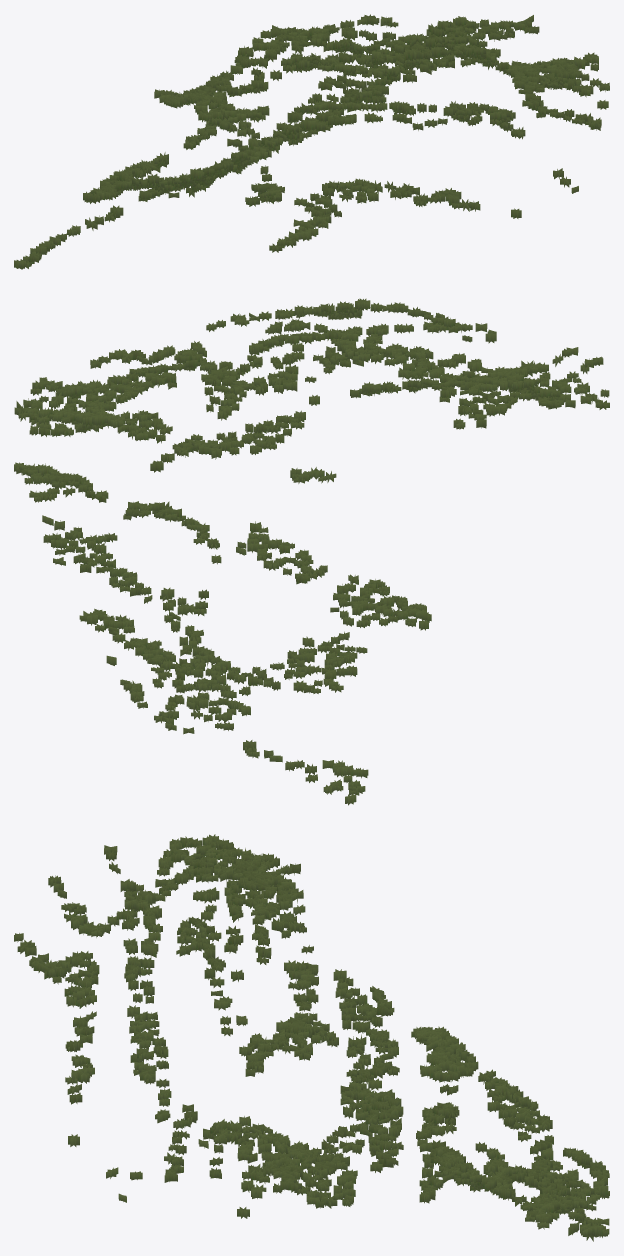
Rendered from TRB8-GRASS-CHUNK-3-0.glb.
3 renders of one model, top to bottom at view 1: azimuth 30°, elevation 25°; view 2: azimuth 150°, elevation 25°; view 3: azimuth 270°, elevation 25°, orthographic. The views are drawn at different scales.
Visible parts, largest first — view 1: TRB8-GRASS-CHUNK-3-0; view 2: TRB8-GRASS-CHUNK-3-0; view 3: TRB8-GRASS-CHUNK-3-0.
Part boxes in pixels (x1=…): TRB8-GRASS-CHUNK-3-0: x1=14, y1=14, x2=609, y2=269; TRB8-GRASS-CHUNK-3-0: x1=14, y1=298, x2=609, y2=805; TRB8-GRASS-CHUNK-3-0: x1=14, y1=834, x2=609, y2=1241.
Size of the model in its own units: 24.55 by 17.22 by 24.67.
1 material, 1 textured.
